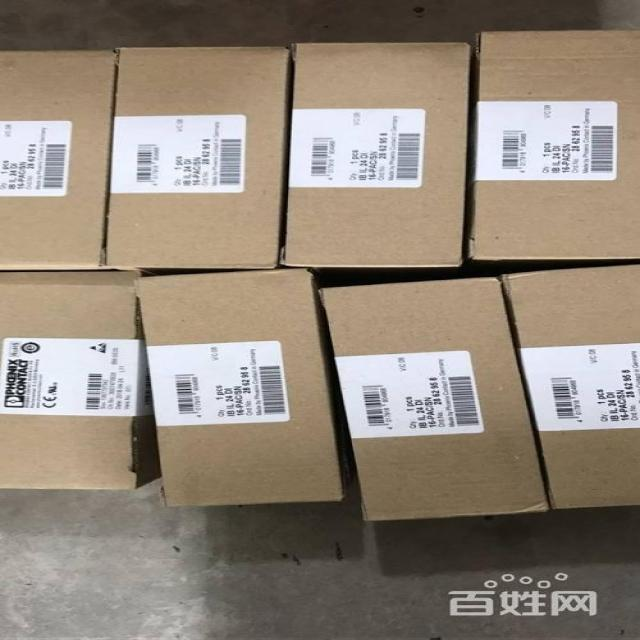box: (315, 276, 549, 521), (138, 268, 358, 506), (283, 43, 477, 268), (107, 46, 291, 270), (464, 30, 639, 261), (0, 270, 159, 489), (500, 265, 639, 509), (0, 47, 113, 270)
